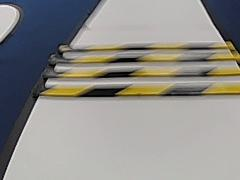bump: (35, 35, 239, 100)
